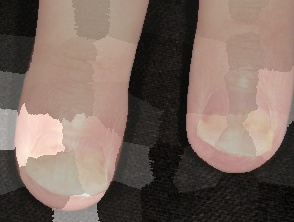Nail_psoriasis: (21, 139, 115, 203), (192, 106, 280, 155)
